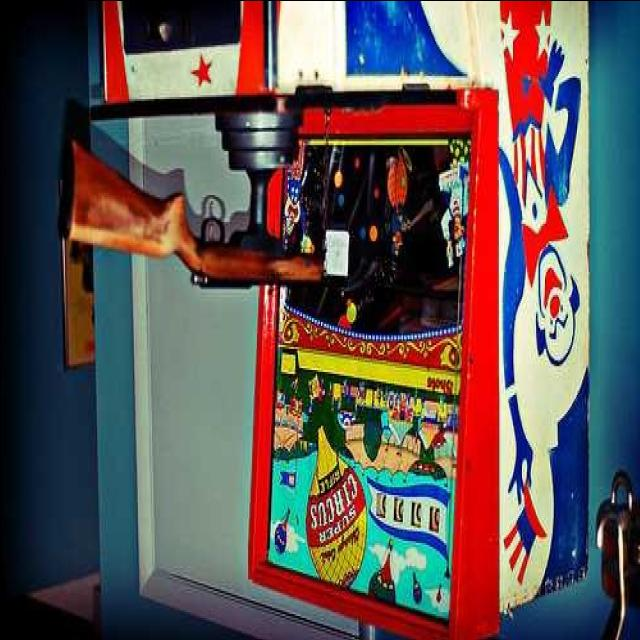heavyweapon: (45, 122, 356, 305)
